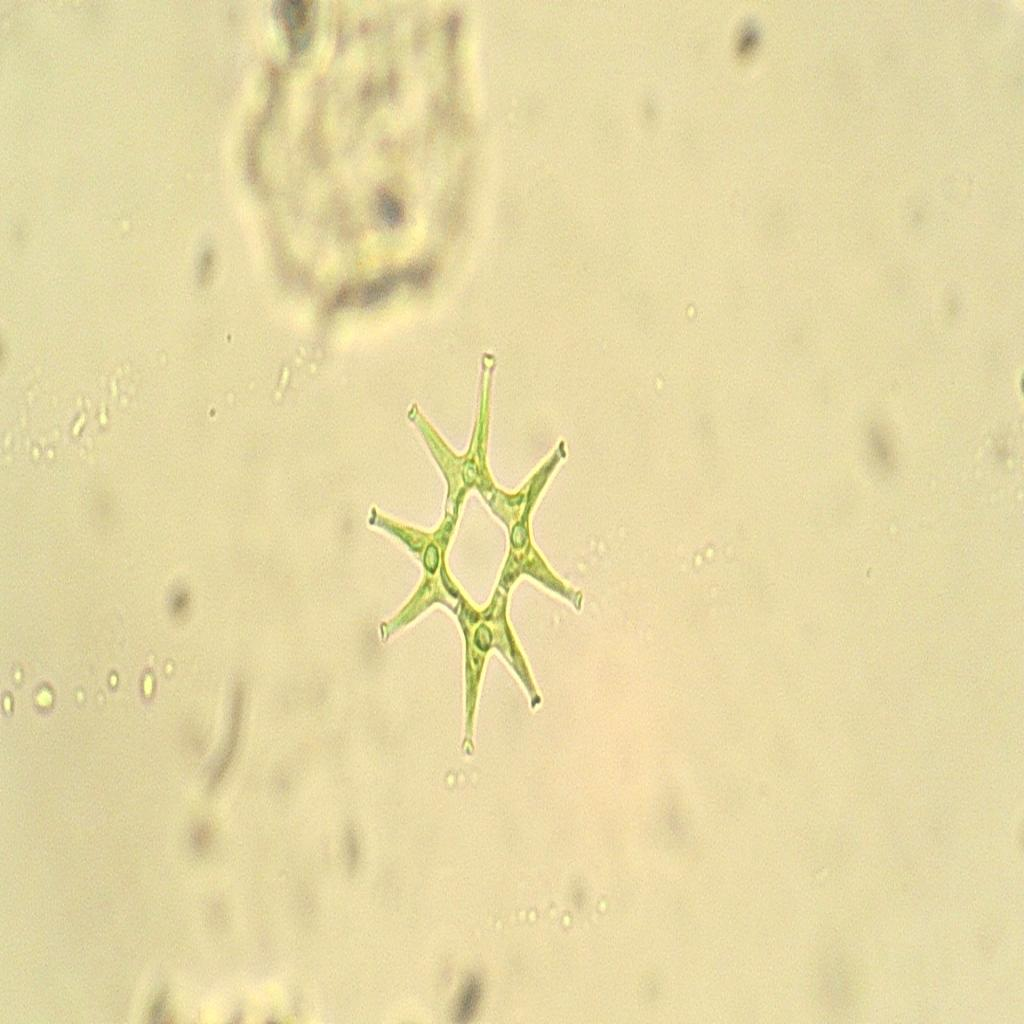Pediastrum_75O: (346, 352, 602, 766)
